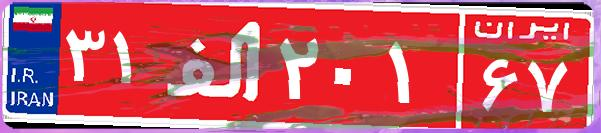0: (330, 28, 385, 110)
1: (385, 28, 445, 110), (110, 28, 158, 105)
2: (273, 28, 330, 110)
3: (57, 26, 110, 107)
6: (475, 38, 525, 113)
7: (525, 38, 570, 115)
الف: (158, 15, 273, 115)
